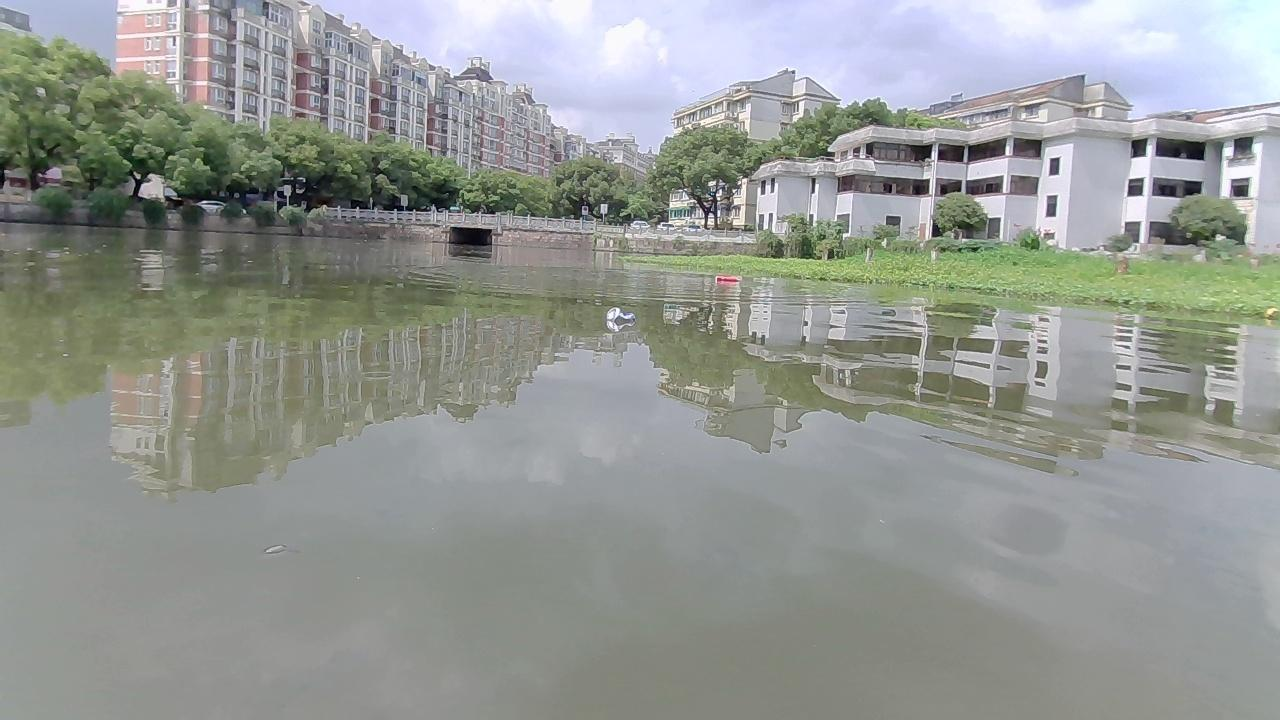bottle: (604, 306, 635, 321), (714, 274, 742, 280)
